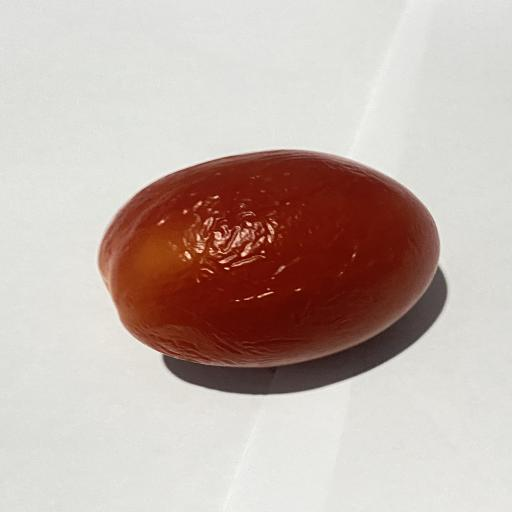spoiled: (99, 150, 438, 367)
